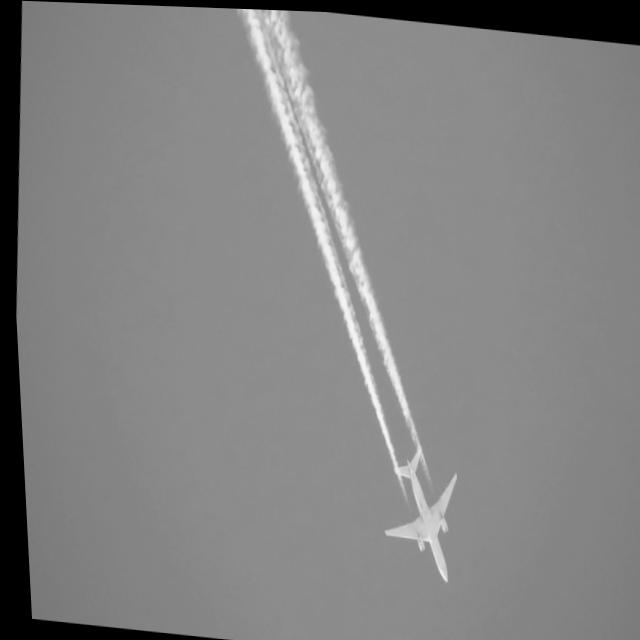aeroplane: (366, 426, 461, 585)
